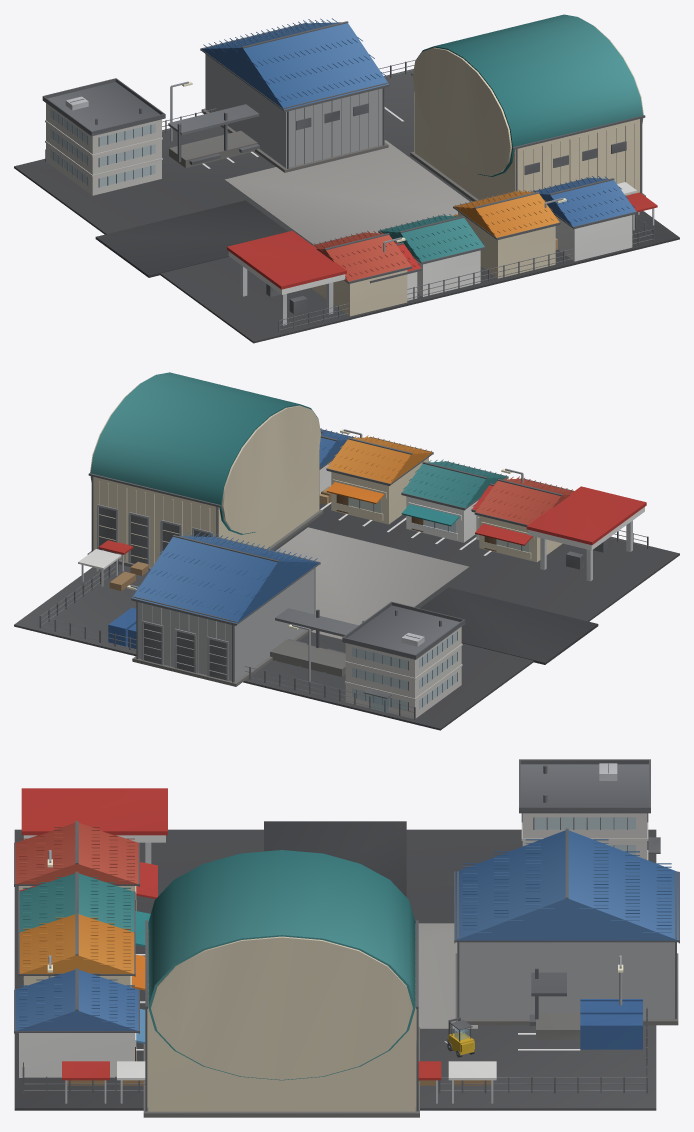
Rendered from Market_P3.fbx.
3 renders of one model, top to bottom at view 1: azimuth 30°, elevation 25°; view 2: azimuth 150°, elevation 25°; view 3: azimuth 270°, elevation 25°, orthographic. The views are drawn at different scales.
Visible parts, largest first — view 1: Market.Pad, Market.WH1, Market.WH2, Market.Office, Market.Shop2, Market.Shop3, Market.Fuel, Market.Shop0, Market.Shop1, Market.Dock, Market.Fence, Market.FuelShop (+1 smaller); view 2: Market.Pad, Market.WH1, Market.WH2, Market.Office, Market.Shop2, Market.Fuel, Market.Shop1, Market.Shop0, Market.Dock, Market.Fence, Market.Stalls, Market.Goods (+1 smaller); view 3: Market.WH1, Market.Pad, Market.WH2, Market.Shop3, Market.Office, Market.Shop0, Market.Fuel, Market.Shop2, Market.Shop1, Market.Stalls, Market.Goods, Market.Dock (+2 smaller).
Part boxes in pixels (bbox=[...]): Market.Pad: bbox=[14, 69, 679, 343]; Market.WH1: bbox=[410, 14, 645, 201]; Market.WH2: bbox=[200, 18, 389, 172]; Market.Office: bbox=[42, 78, 165, 195]; Market.Shop2: bbox=[453, 189, 560, 278]; Market.Shop3: bbox=[528, 176, 637, 261]; Market.Fuel: bbox=[227, 230, 346, 325]; Market.Shop0: bbox=[311, 230, 412, 316]; Market.Shop1: bbox=[378, 213, 485, 296]; Market.Dock: bbox=[168, 81, 388, 167]; Market.Fence: bbox=[45, 59, 654, 332]; Market.FuelShop: bbox=[369, 242, 422, 300]; Market.Pad: bbox=[14, 503, 679, 730]; Market.WH1: bbox=[87, 372, 323, 571]; Market.WH2: bbox=[131, 532, 320, 686]; Market.Office: bbox=[342, 601, 465, 718]; Market.Shop2: bbox=[326, 435, 433, 524]; Market.Fuel: bbox=[526, 486, 646, 581]; Market.Shop1: bbox=[401, 459, 508, 542]; Market.Shop0: bbox=[474, 476, 573, 562]; Market.Dock: bbox=[270, 608, 364, 676]; Market.Fence: bbox=[39, 530, 648, 719]; Market.Stalls: bbox=[78, 540, 148, 590]; Market.Goods: bbox=[108, 486, 331, 648]; Market.WH1: bbox=[143, 850, 419, 1117]; Market.Pad: bbox=[14, 821, 656, 1110]; Market.WH2: bbox=[454, 828, 679, 1025]; Market.Shop3: bbox=[14, 968, 145, 1077]; Market.Office: bbox=[519, 759, 660, 860]; Market.Shop0: bbox=[14, 821, 157, 910]; Market.Fuel: bbox=[21, 788, 167, 863]; Market.Shop2: bbox=[18, 912, 145, 990]; Market.Shop1: bbox=[18, 871, 150, 946]; Market.Stalls: bbox=[62, 1061, 496, 1103]; Market.Goods: bbox=[580, 999, 642, 1049]; Market.Dock: bbox=[529, 967, 580, 1040].
Bounding box in the file's own units: 7857 × 2281 × 7474.
